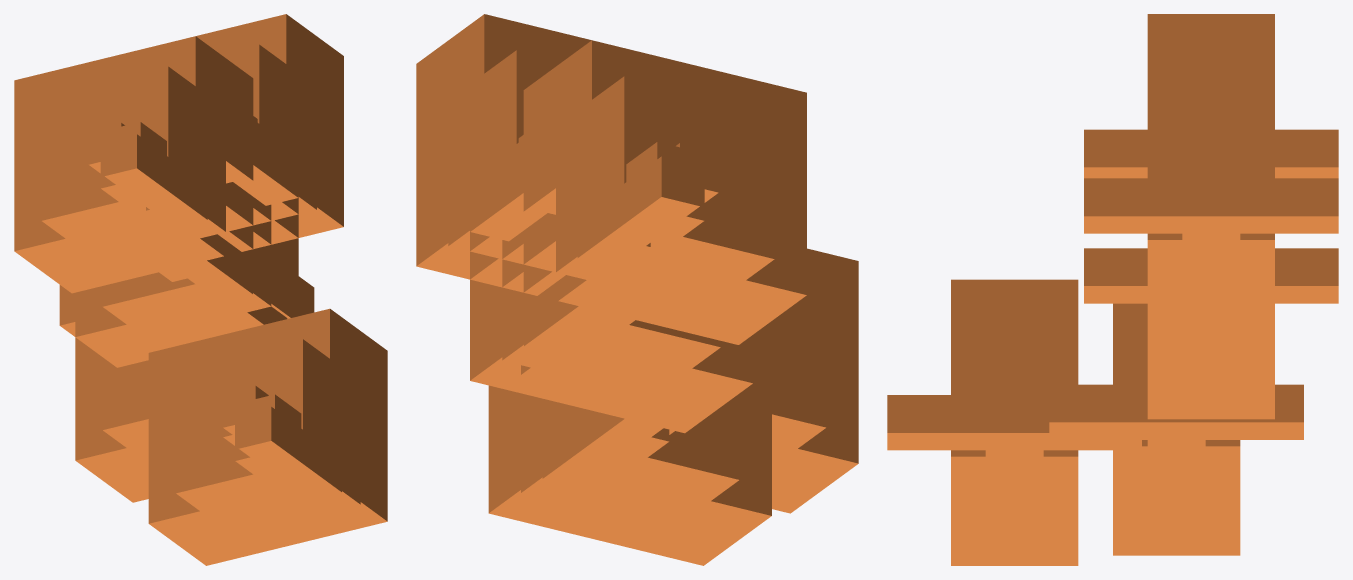
File: cat.glb
The picture shows the model from 3 angles, left to right: view 1: azimuth 30°, elevation 25°; view 2: azimuth 150°, elevation 25°; view 3: azimuth 270°, elevation 25°; orthographic projection. The views are drawn at different scales.
Bounding box in the file's own units: 1.5 × 2.05 × 1.95.
